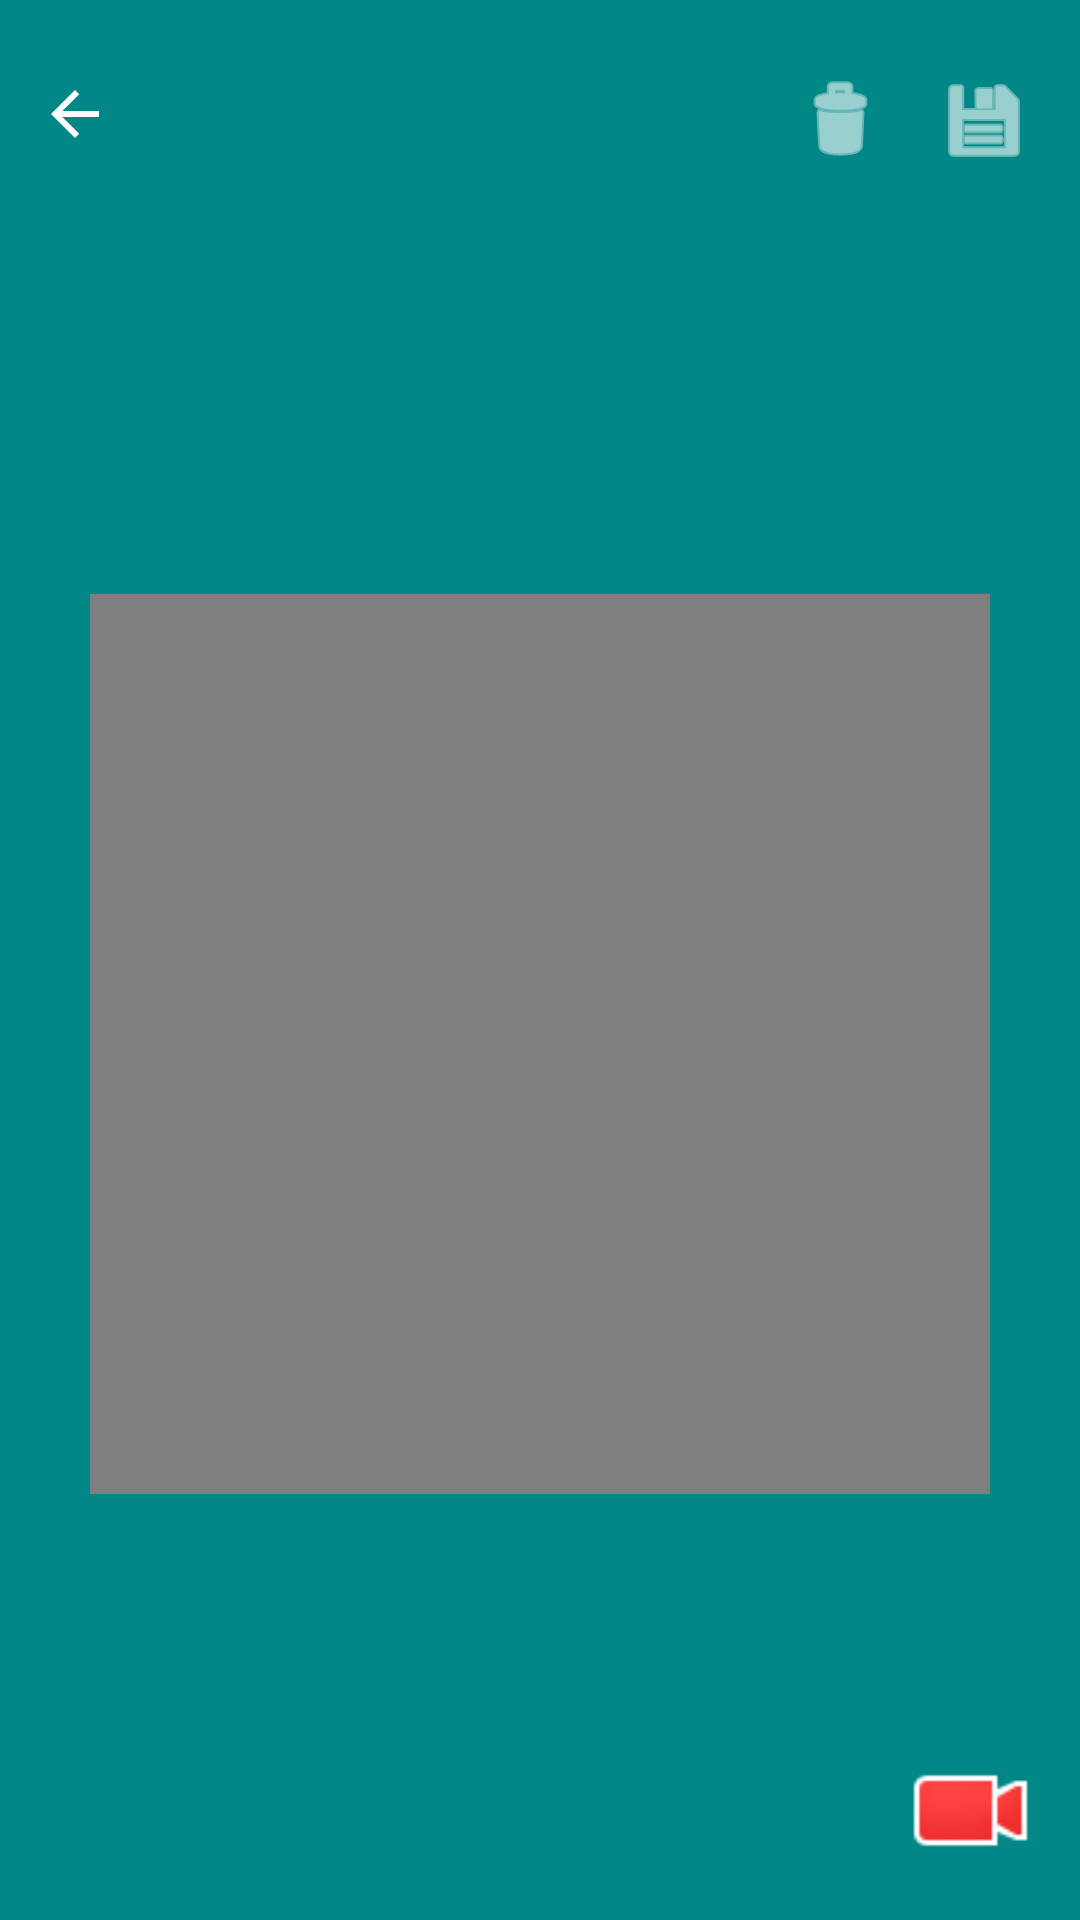

Where to tap for icons on this 1080x1920 app screen, as (x,y):
delete: (840,118)
presence video busy: (970,1810)
save: (984,120)
